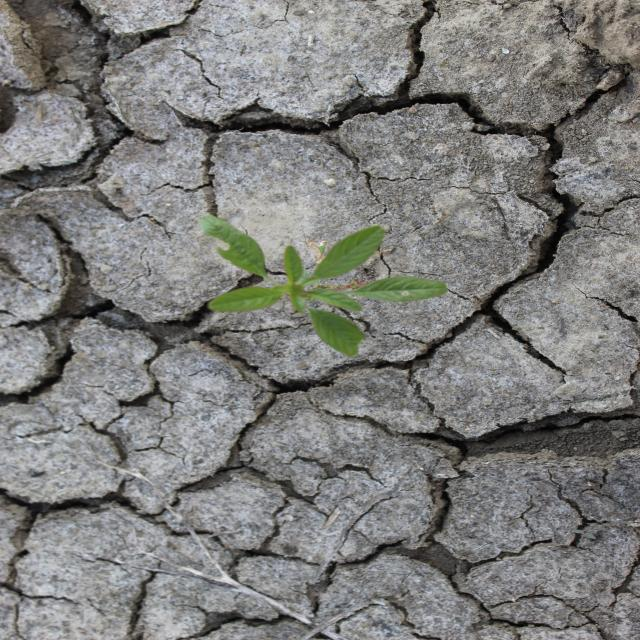Waterhemp: (197, 213, 450, 358)
